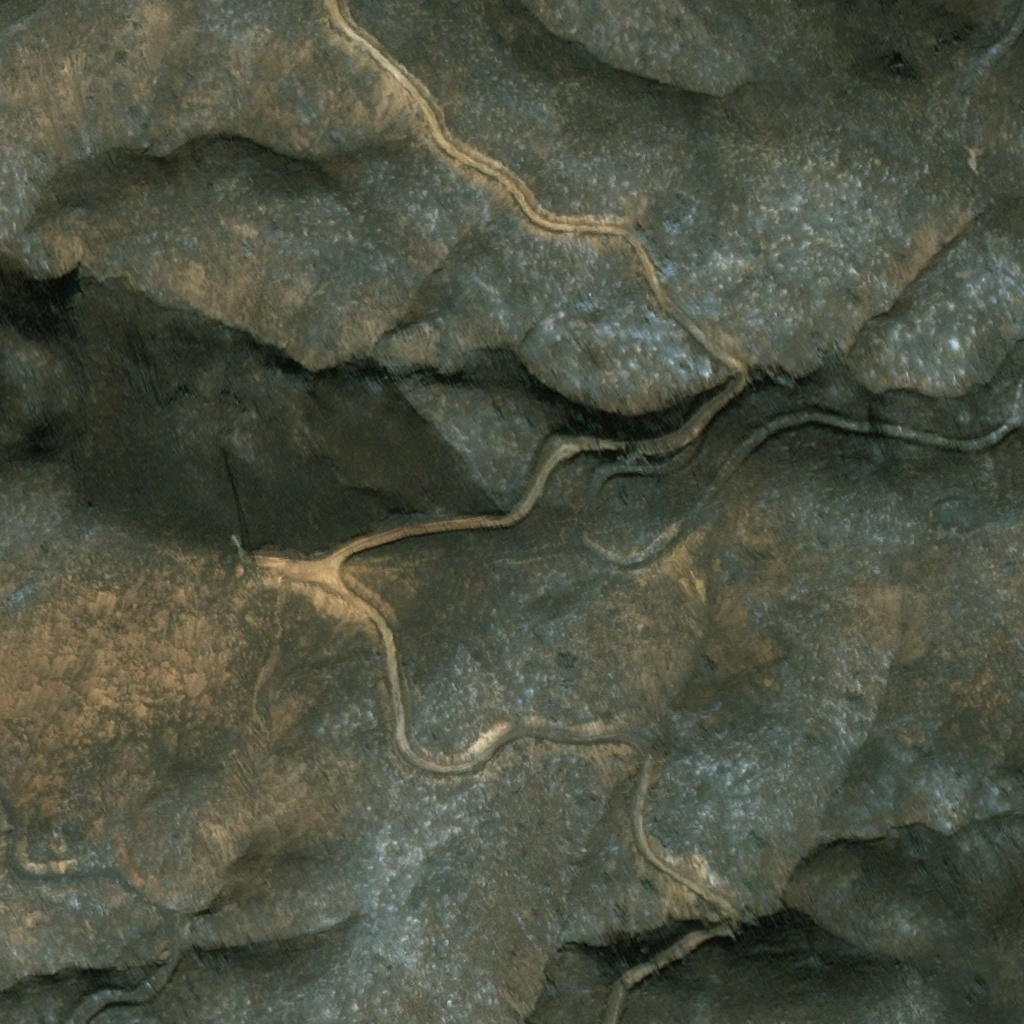0 no-damage: (243, 560, 260, 579)
